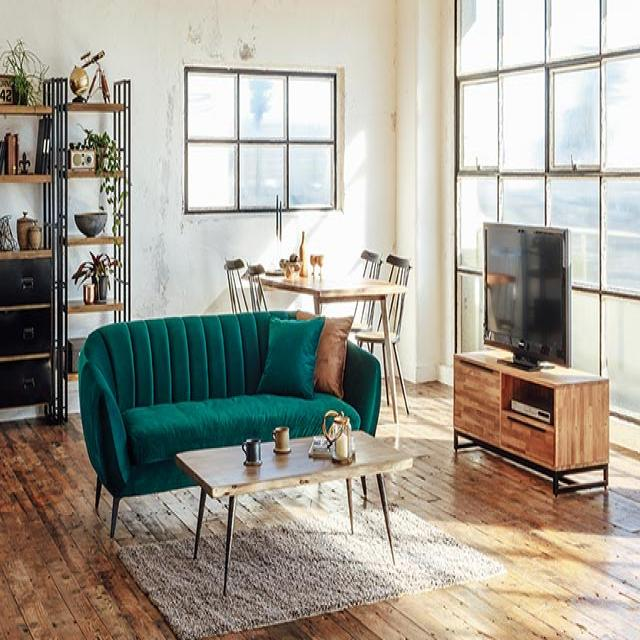natural desk: (174, 433, 408, 576), (242, 264, 408, 310)
natural shelf: (1, 72, 130, 318), (454, 350, 613, 498)
natural sofa: (75, 312, 380, 434)
